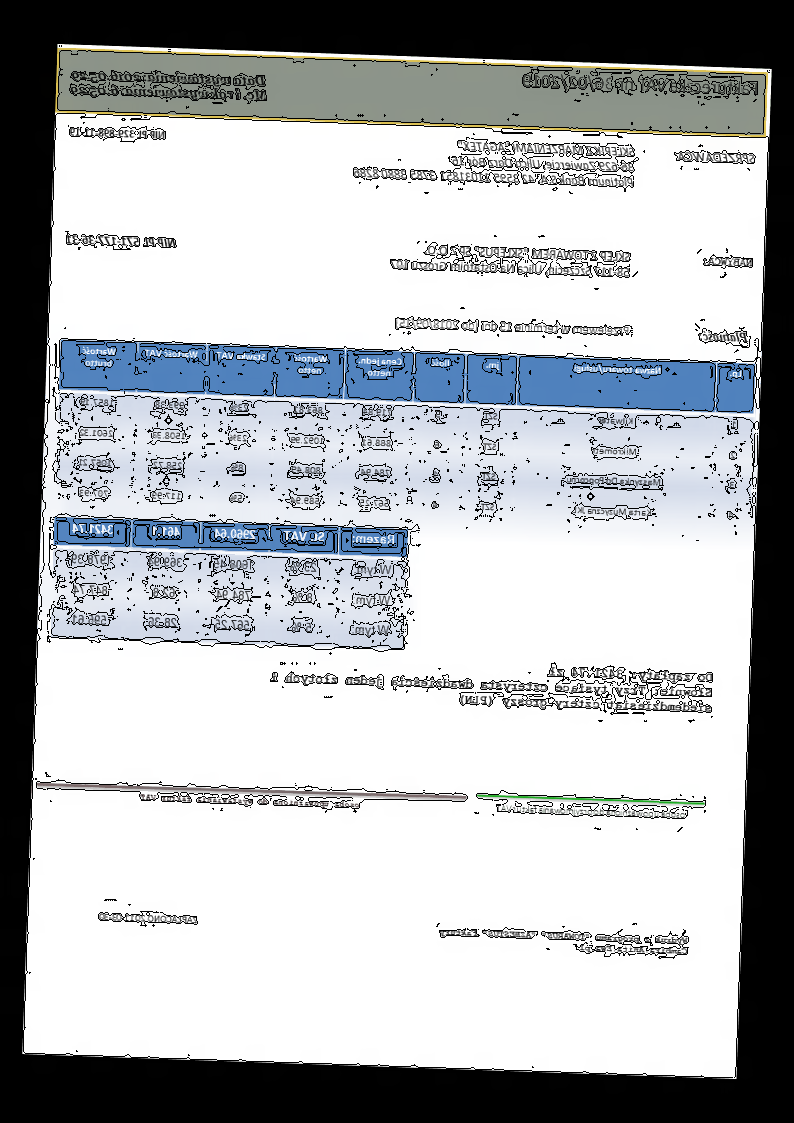Table: (55, 339, 758, 538), (50, 516, 409, 651)
TextBox: (265, 654, 717, 717), (351, 133, 639, 195), (388, 241, 634, 281), (67, 64, 272, 107), (434, 926, 692, 959), (520, 68, 762, 99), (393, 316, 632, 340), (138, 791, 363, 811), (494, 802, 689, 822), (65, 232, 179, 251), (69, 123, 169, 144), (96, 909, 200, 927), (673, 147, 760, 168), (702, 253, 756, 271), (697, 328, 751, 345)
